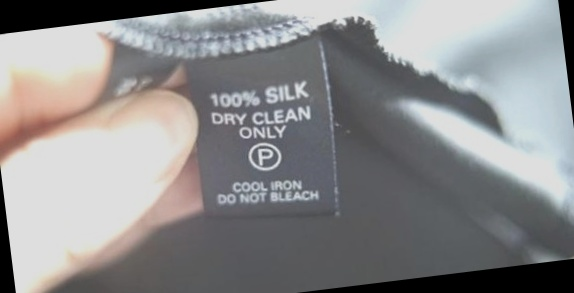dry_clean_any_solvent_except_trichloroethylene: (247, 139, 285, 173)
